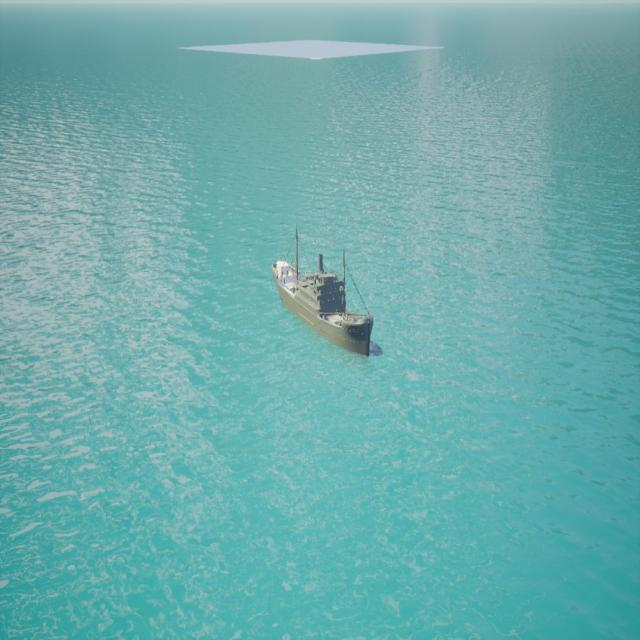fishing ship: (273, 257, 377, 362)
